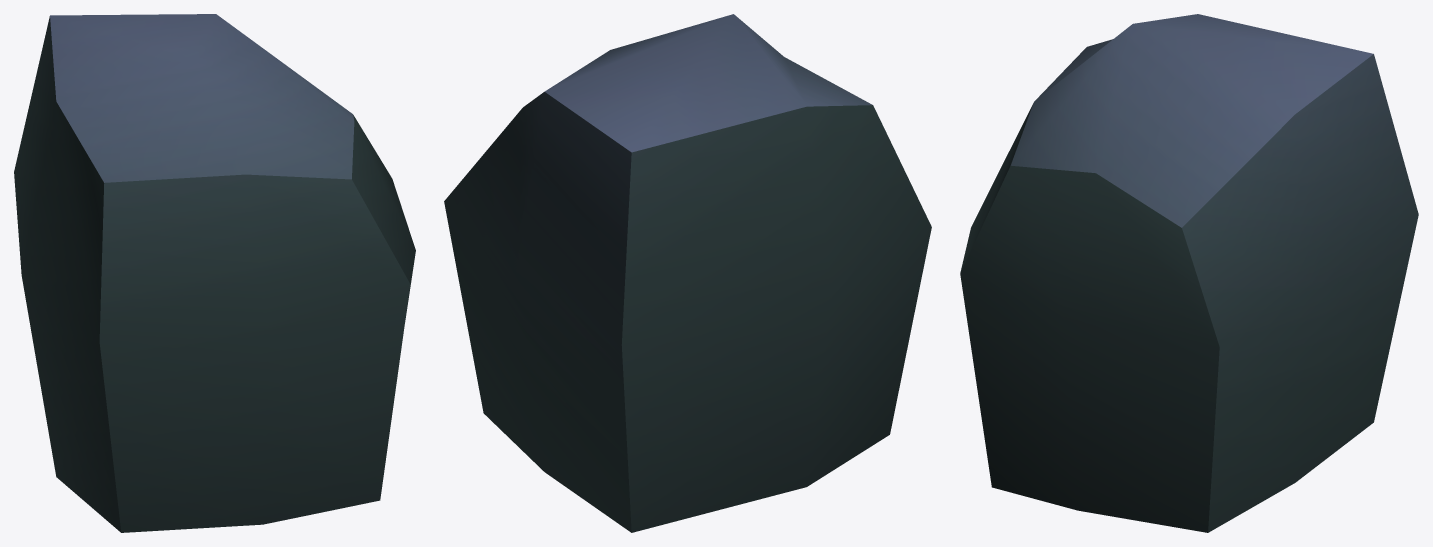
Rendered from undead_mine_stone_03.fbx.
3 views of the same model, side by side, from view 1: azimuth 30°, elevation 25°; view 2: azimuth 150°, elevation 25°; view 3: azimuth 270°, elevation 25° (orthographic). The views are drawn at different scales.
Visible parts, largest first — view 1: undead_mine_stone_03; view 2: undead_mine_stone_03; view 3: undead_mine_stone_03.
Boxes of the visible parts, bbox=[...] form: undead_mine_stone_03: bbox=[14, 14, 415, 532]; undead_mine_stone_03: bbox=[444, 14, 931, 532]; undead_mine_stone_03: bbox=[960, 14, 1418, 532].
Bounding box in the file's own units: 2.76 × 2.84 × 2.88.
